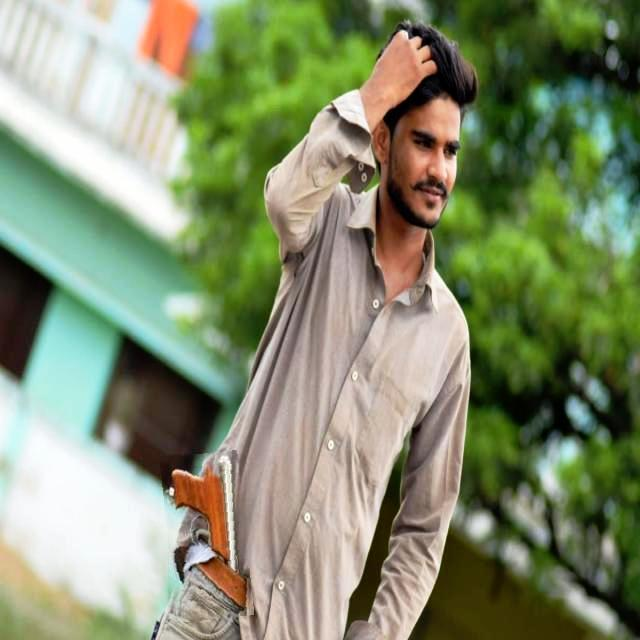Gun: (156, 450, 254, 571)
